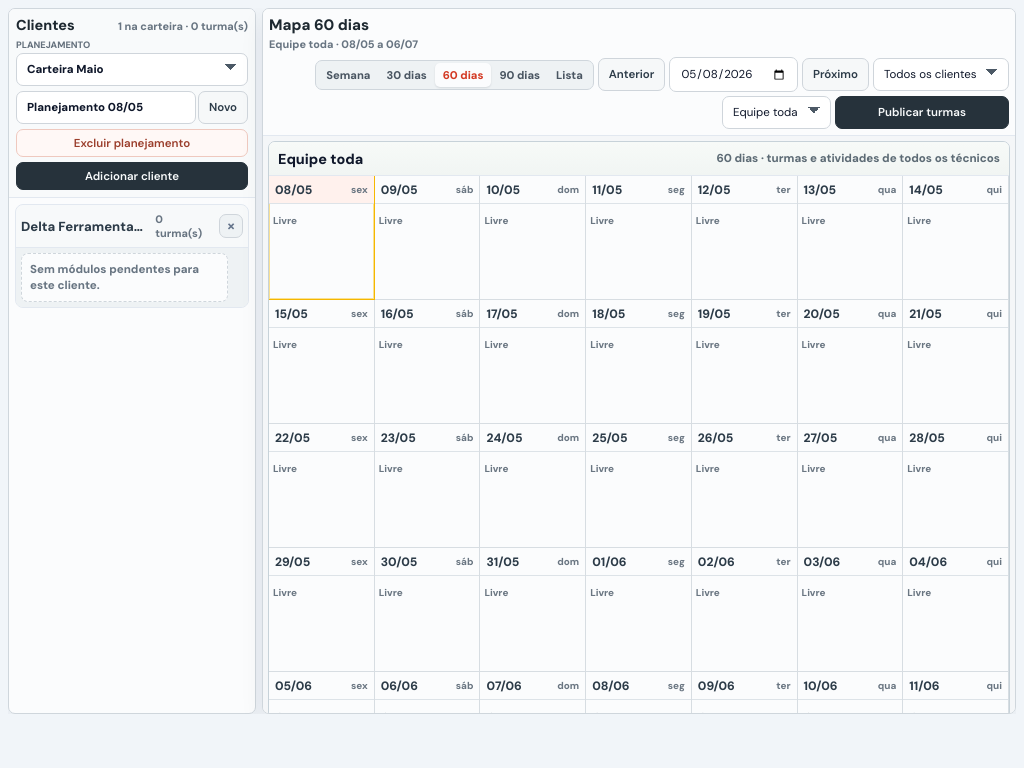
Scenario: PlanningPage › shows only workspace clients and opens a compact client picker
Expected: the text "Delta Ferramentaria" is shown, 21,218 -> 147,234
Expected: the text "Omega Moldes" is not shown
Click the button "Adicionar cliente".
click(132, 176)  # box 16,162 -> 248,190
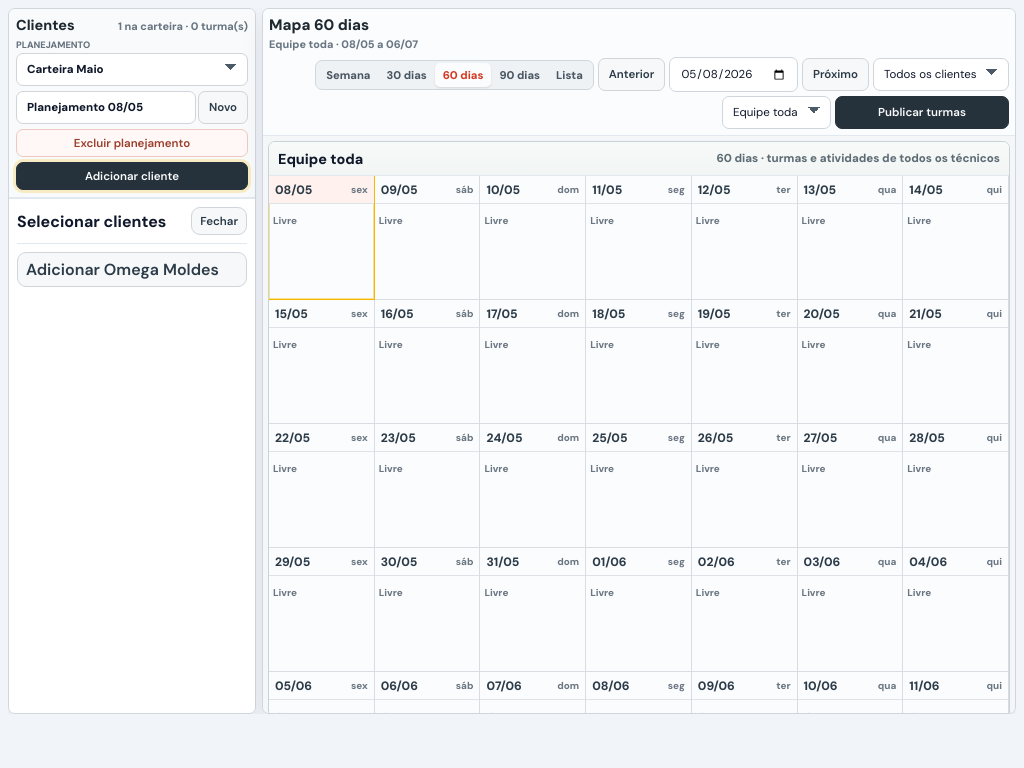
Expected: the dialog "Selecionar clientes" is shown, 9,198 -> 255,713
Click the button "Adicionar Omega Moldes".
click(132, 270)  # box 17,252 -> 247,287
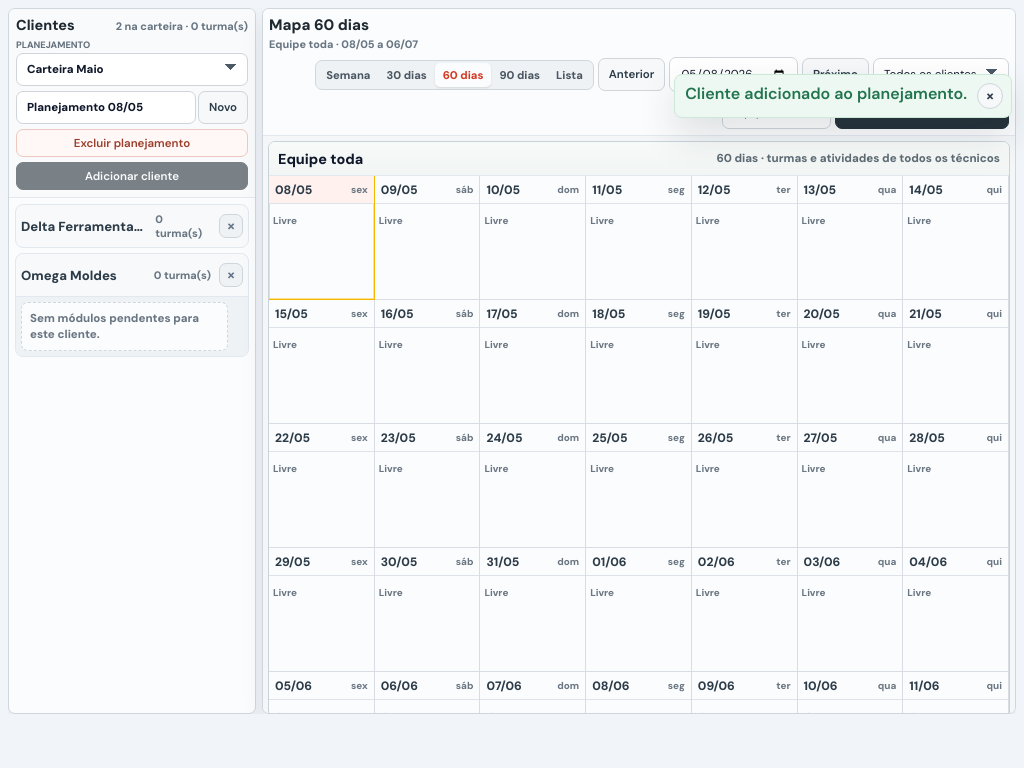
Expected: the text "Cliente adicionado ao planejamento." is shown, 685,83 -> 967,104
